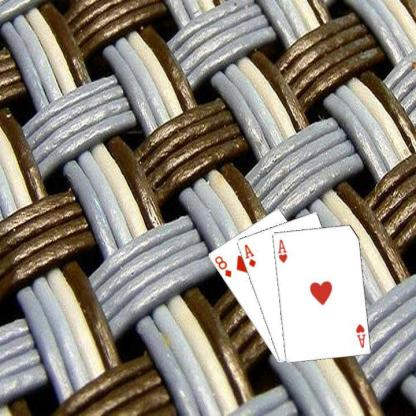8D: (212, 253, 233, 279)
AD: (242, 242, 256, 268)
AH: (353, 321, 366, 349), (275, 237, 288, 264)
